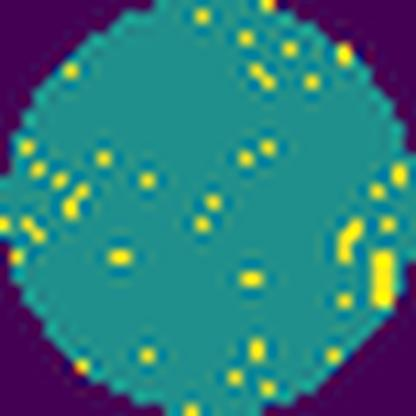Loc: (373, 249, 394, 309)
